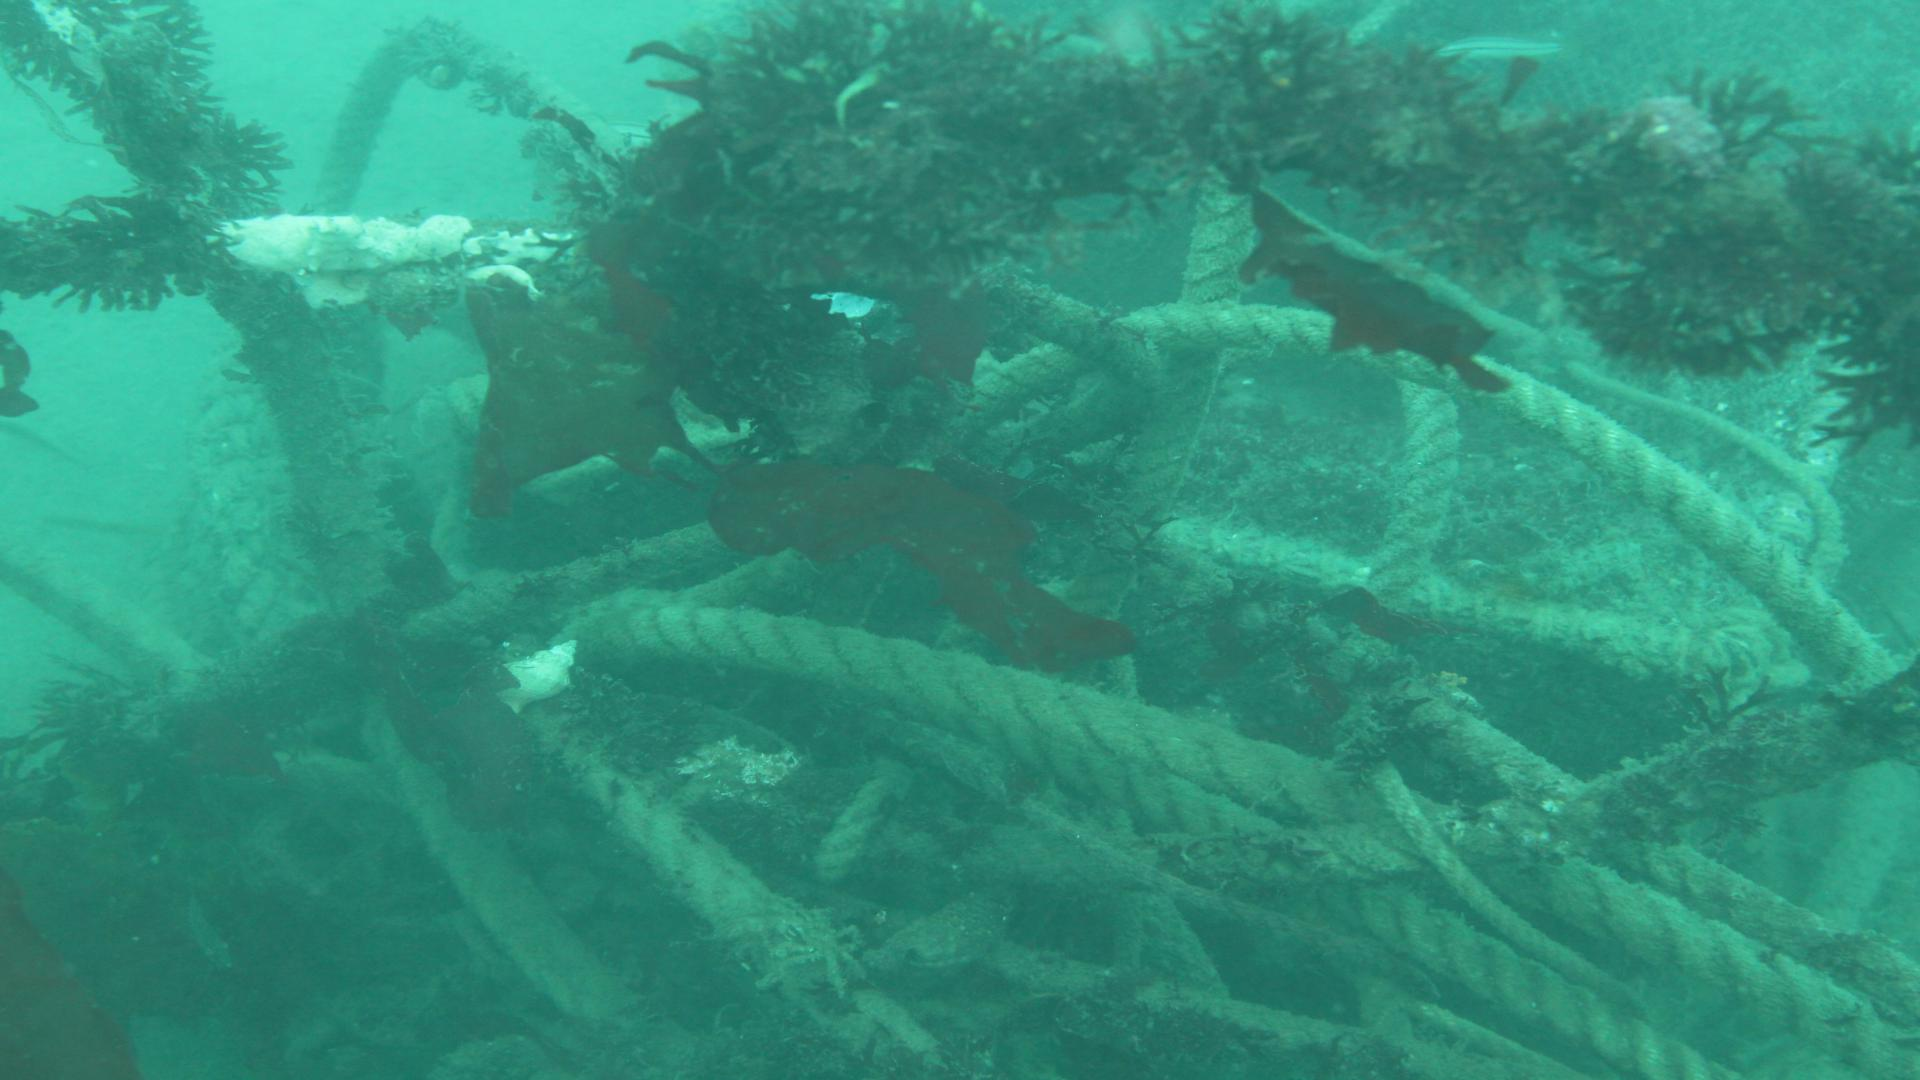bundle of ropes: (195, 160, 1920, 1080)
